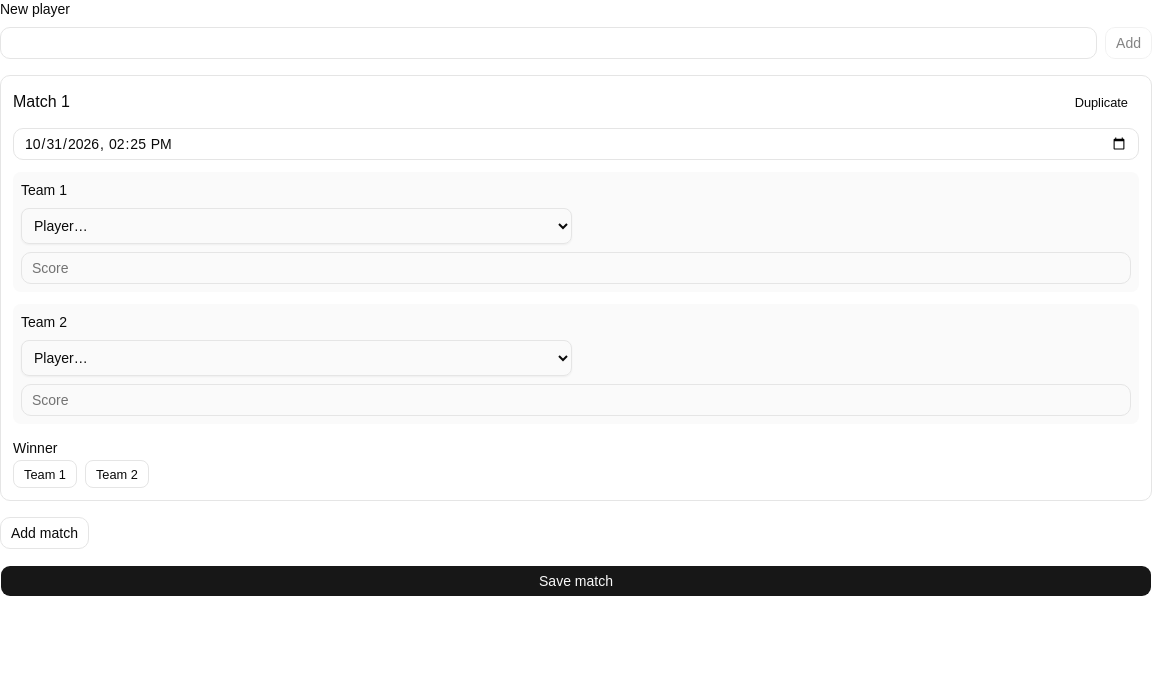
Scenario: BatchEntry › adds a match a minute after the last, and removes it
Replace the text in the field named "Match 1 date and time" with "2026-10-12T18:05" at (576, 144), box [13,128,1139,160]
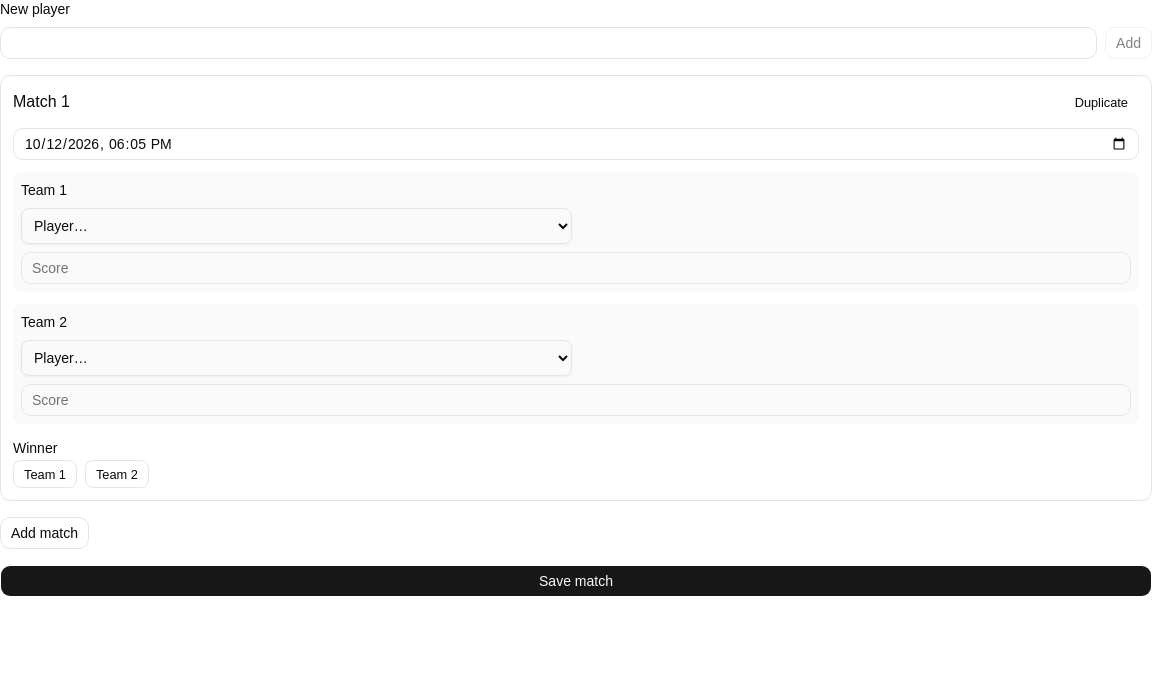
Click the button "Add match" at (44, 533), box [0,517,89,549]
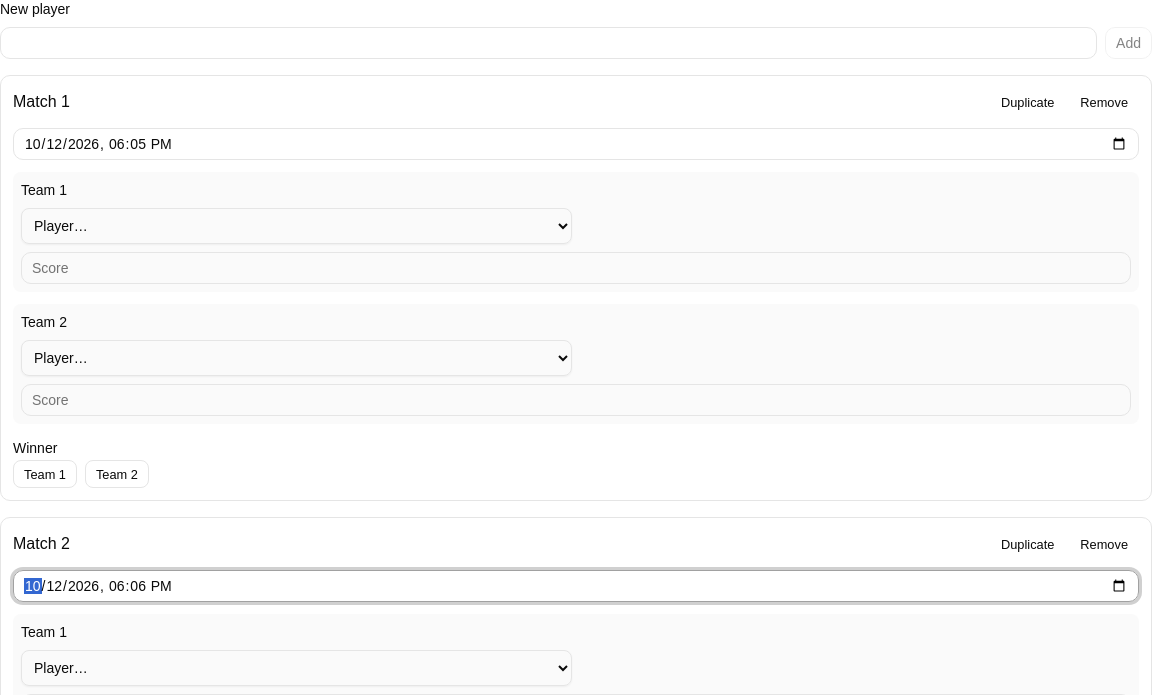
Expected: the field named "Match 2 date and time" holds "2026-10-12T18:06", [13,570,1139,602]
Click the button "Remove" in the row of "Match 1" at (1104, 102), box [1069,88,1139,116]
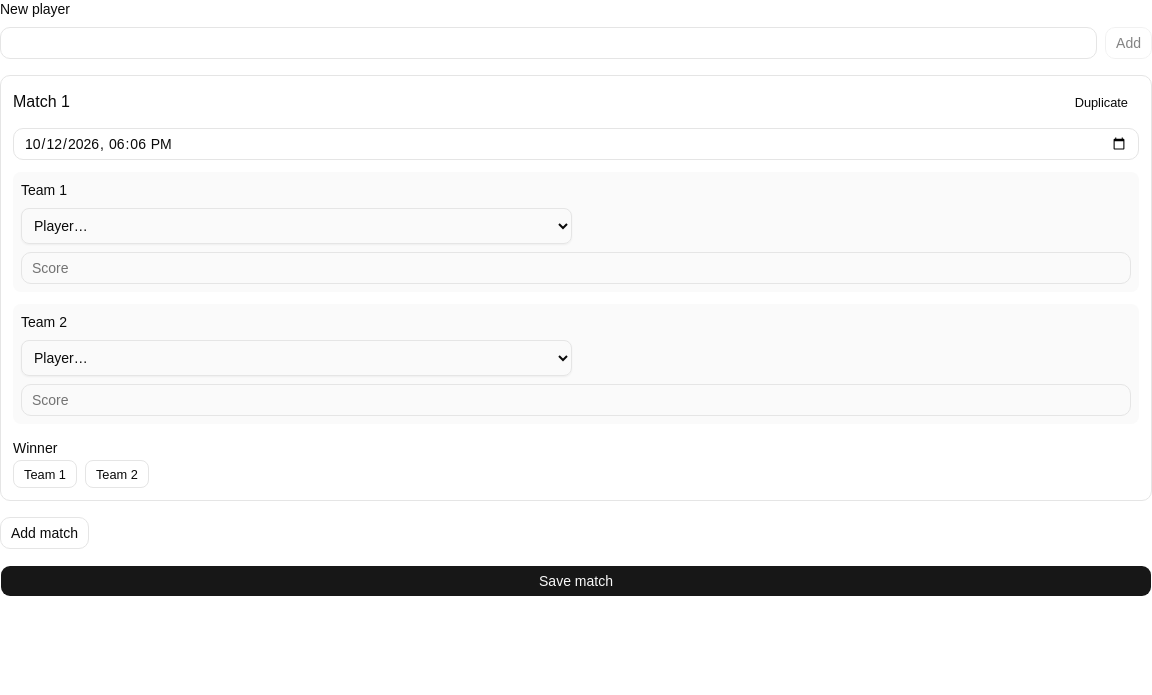
Expected: the field named "Match 1 date and time" holds "2026-10-12T18:06", [13,128,1139,160]
Expected: the number of elements "Match 1 Duplicate Team 1 Team 2 Winner Team 1 Team 2" is 1
